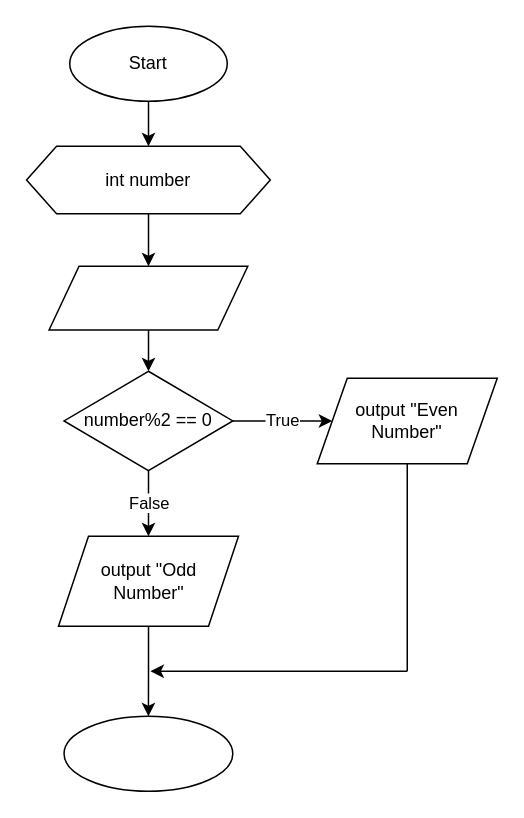
Some shapes in this 524 by 818 pixel diagram are drawn without their labels. The shapes that lost their labels are listed below. From the top down, each one's box as (x1, y1, x2, y2) in pixels, then its label:
(48, 265, 248, 330): input number
(63, 715, 233, 791): End
